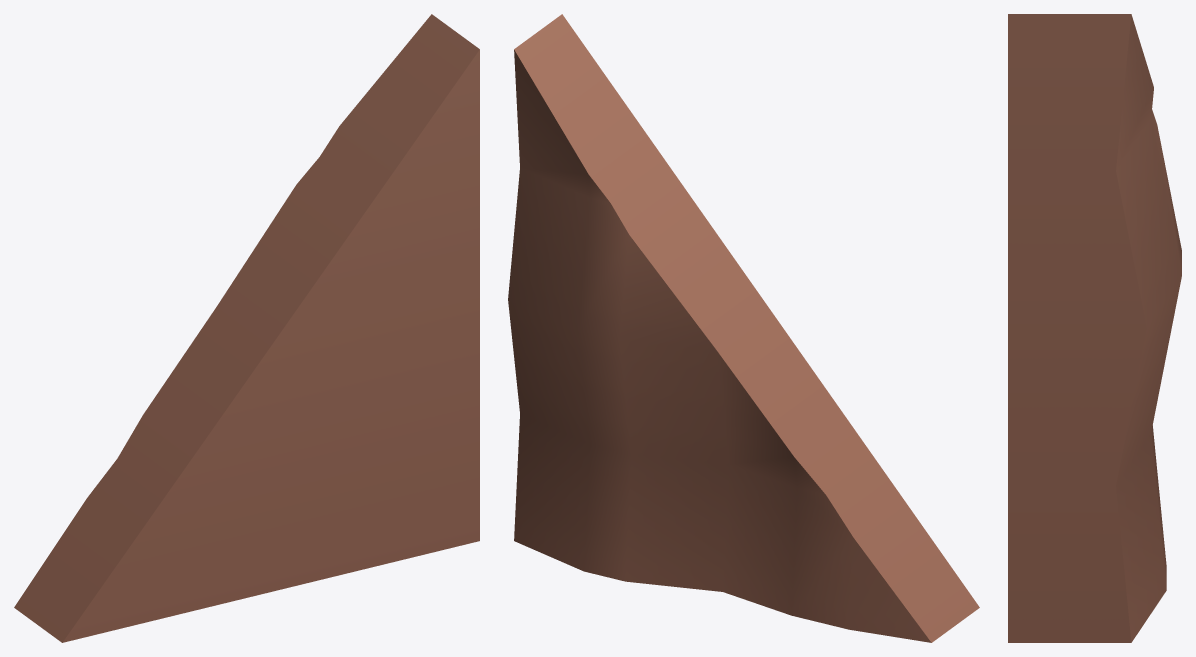
Rendered from template-wall-stairs.obj.
The picture shows the model from 3 angles, left to right: view 1: azimuth 30°, elevation 25°; view 2: azimuth 150°, elevation 25°; view 3: azimuth 270°, elevation 25°; orthographic projection. The views are drawn at different scales.
Visible parts, largest first — view 1: template-wall-stairs; view 2: template-wall-stairs; view 3: template-wall-stairs.
Boxes of the visible parts, x1,y1,x2,y2 form: template-wall-stairs: (14,14,479,642); template-wall-stairs: (508,14,979,642); template-wall-stairs: (1008,14,1181,642).
Size of the model in its own units: 4 by 4.5 by 1.13.
1 material, 1 textured.
